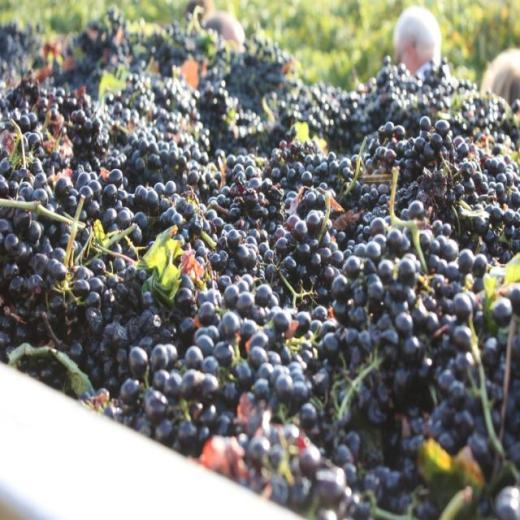Orange: (0, 11, 520, 520)
